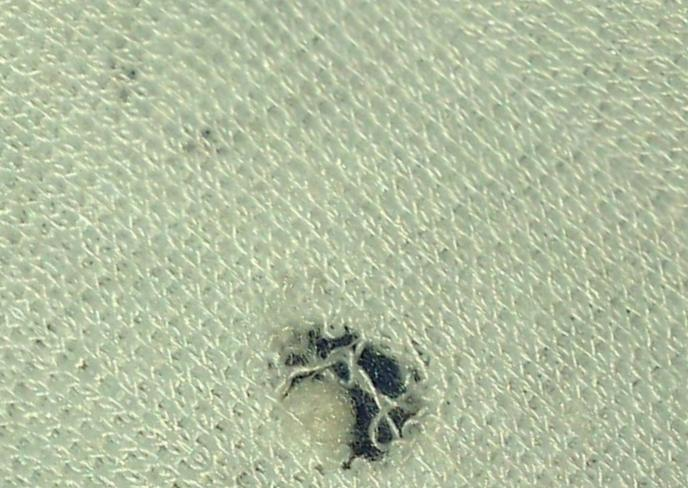hole: (252, 346, 372, 480)
